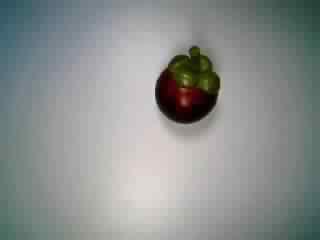mangosteen: (145, 43, 225, 129)
